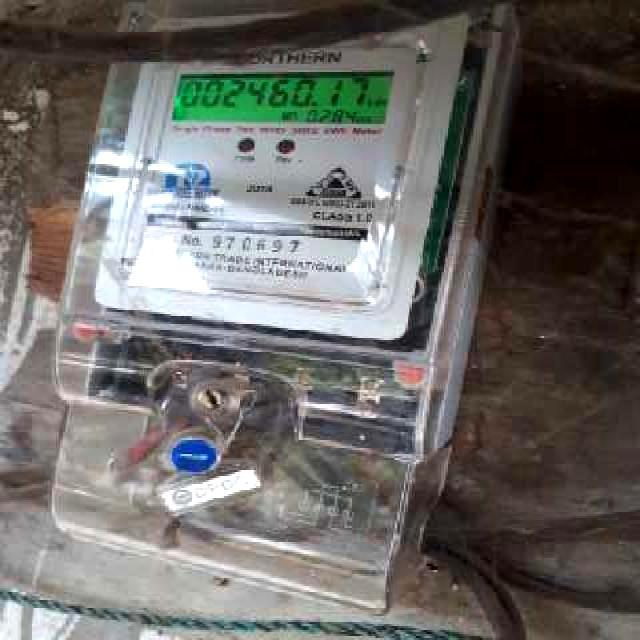LCD: (170, 63, 396, 133)
